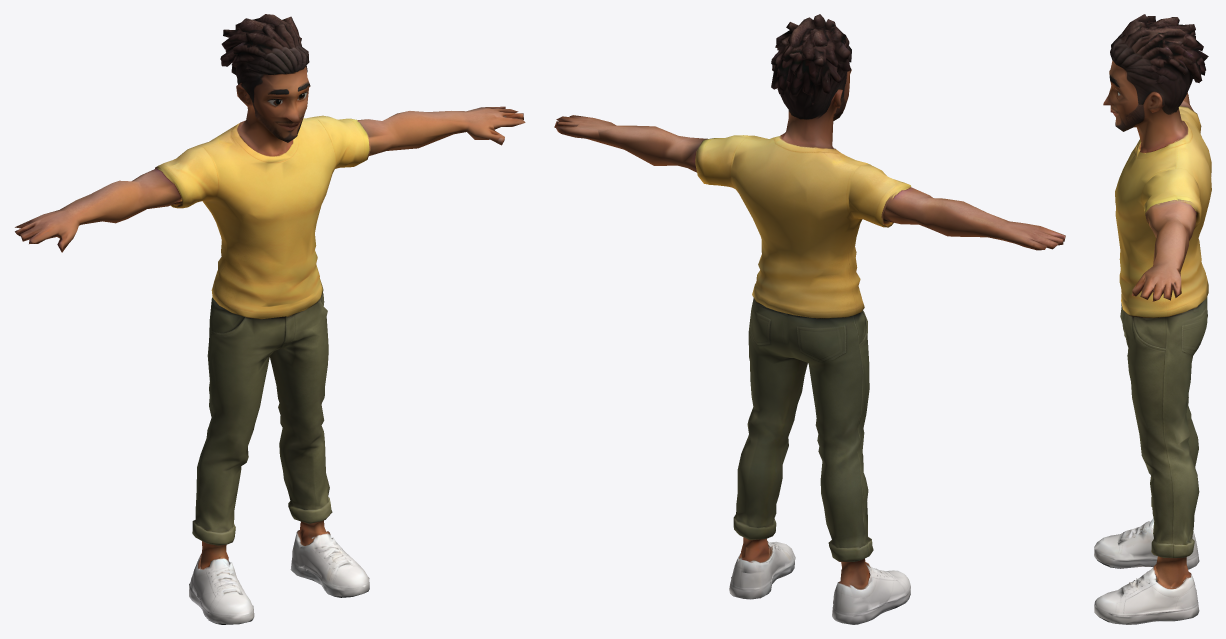
Rendered from jimy.glb.
The picture shows the model from 3 angles, left to right: view 1: azimuth 30°, elevation 25°; view 2: azimuth 150°, elevation 25°; view 3: azimuth 270°, elevation 25°; orthographic projection.
Visible parts, largest first — view 1: tripo_mesh_4aaae184_09ab_4bfa_bc24_63df58cc68c5; view 2: tripo_mesh_4aaae184_09ab_4bfa_bc24_63df58cc68c5; view 3: tripo_mesh_4aaae184_09ab_4bfa_bc24_63df58cc68c5.
Boxes of the visible parts, x1,y1,x2,y2 form: tripo_mesh_4aaae184_09ab_4bfa_bc24_63df58cc68c5: (15, 14, 525, 624); tripo_mesh_4aaae184_09ab_4bfa_bc24_63df58cc68c5: (554, 14, 1065, 624); tripo_mesh_4aaae184_09ab_4bfa_bc24_63df58cc68c5: (1094, 14, 1211, 624).
Bounding box in the file's own units: 0.9034 × 0.9797 × 0.1842.
1 material, 1 textured.
